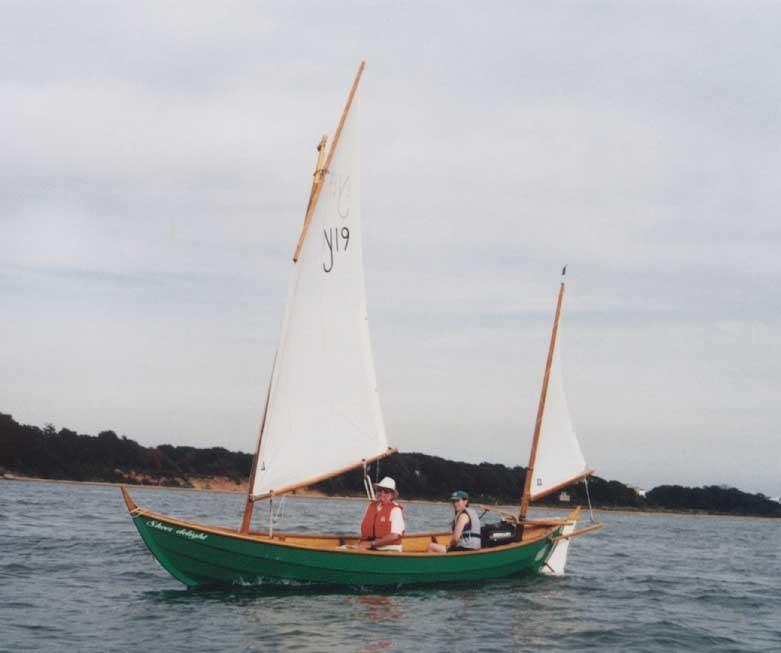Ship: (118, 64, 606, 597)
